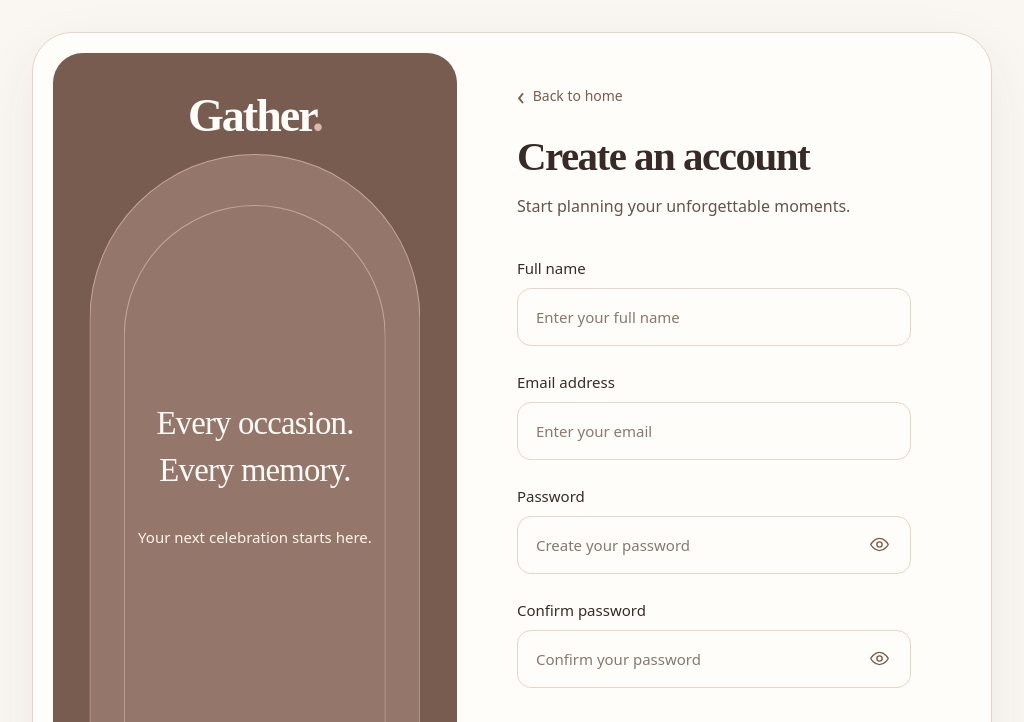
Test: Registration form › rejects an invalid email address
This screenshot has width=1024, height=722.
Type "Test User" into the field labelled "Full name" at (714, 317), box [517,288,911,346]
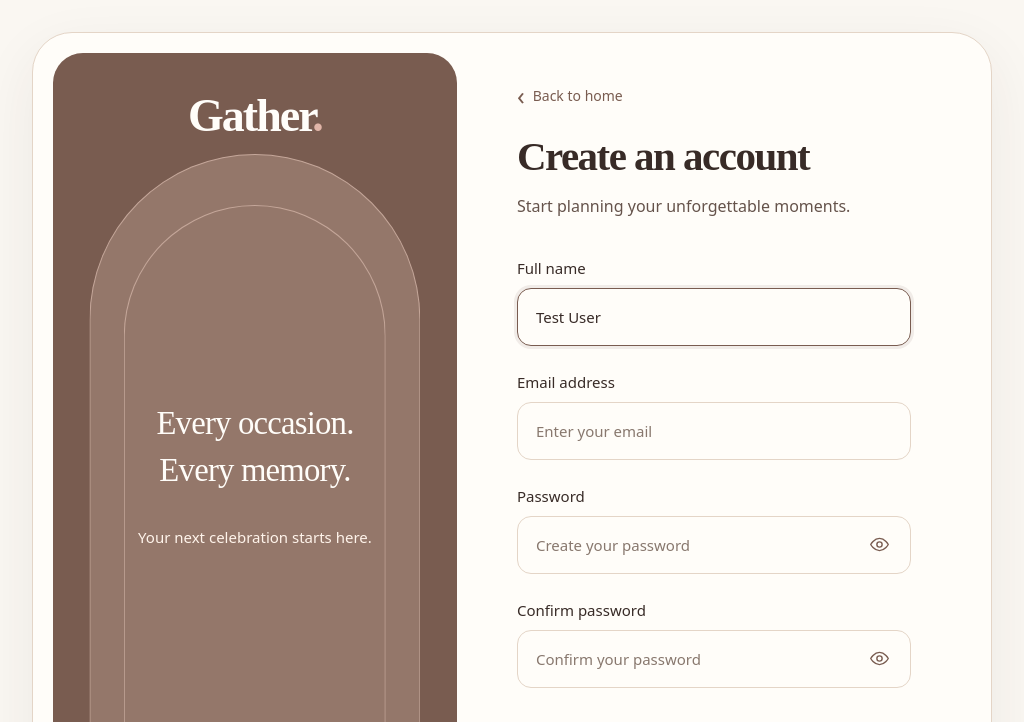
Type "invalid@example" into the field labelled "Email address" at (714, 431), box [517,402,911,460]
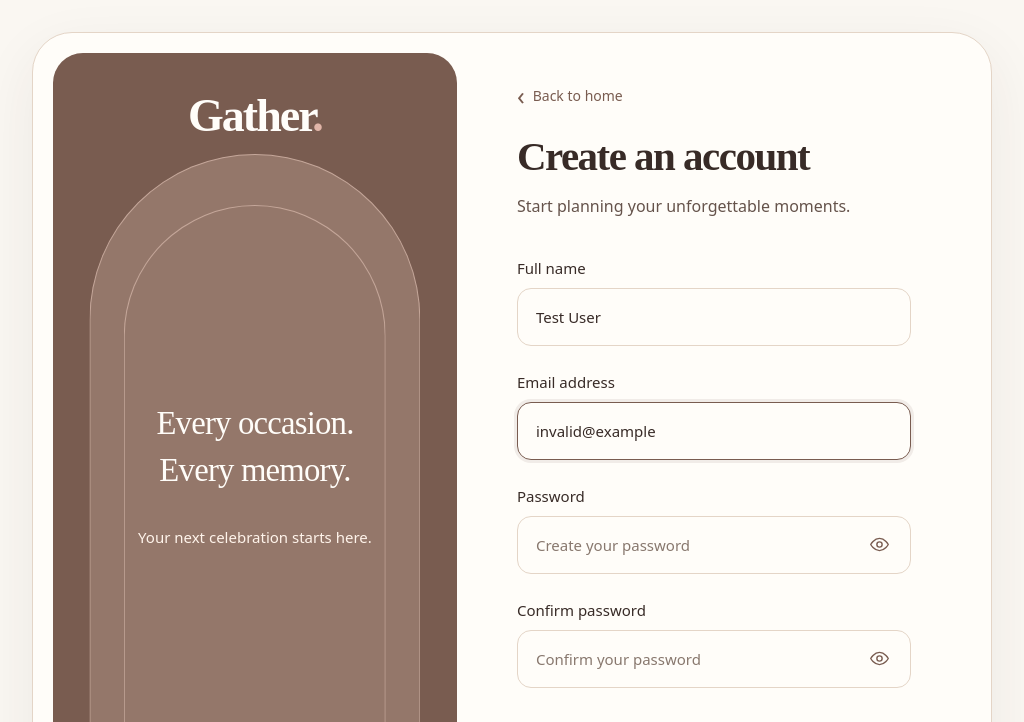
Type "Test1234" into the password field labelled "Password" at (714, 545), box [517,516,911,574]
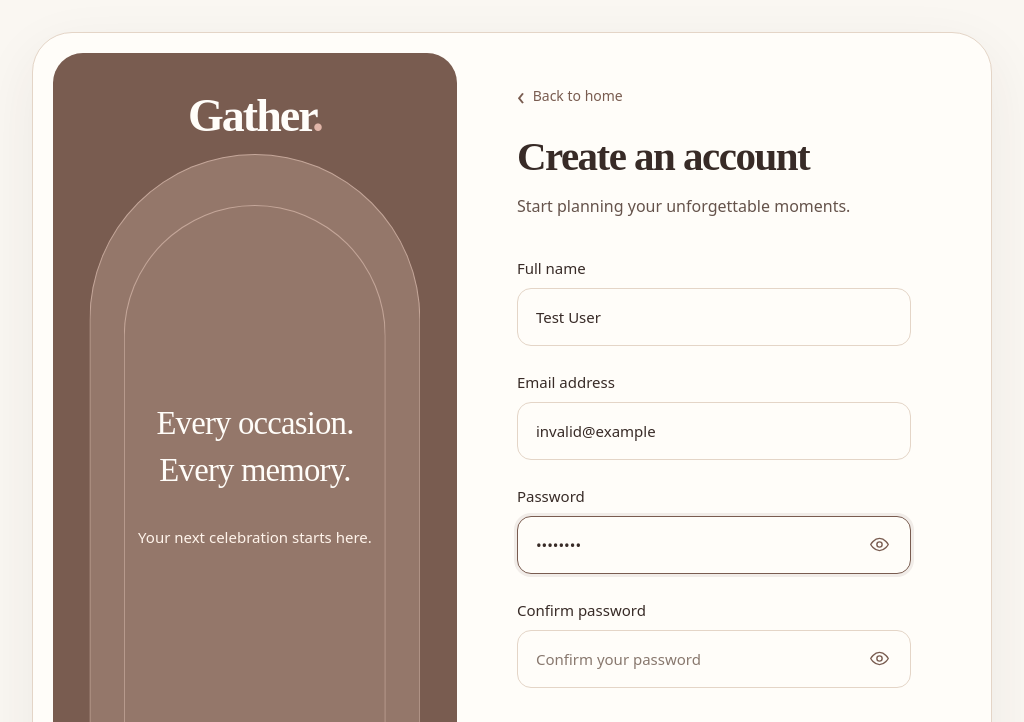
Type "Test1234" into the password field labelled "Confirm password" at (714, 659), box [517,630,911,688]
(page scrolled)
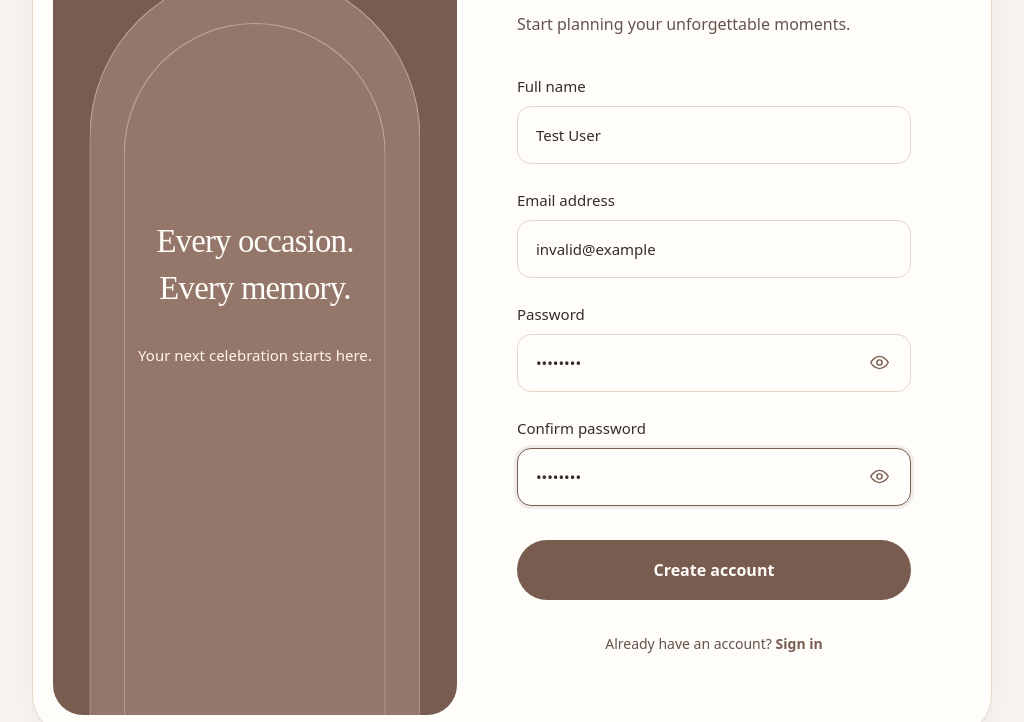
Click the button "Create account" at (714, 570), box [517,540,911,600]
(page scrolled)
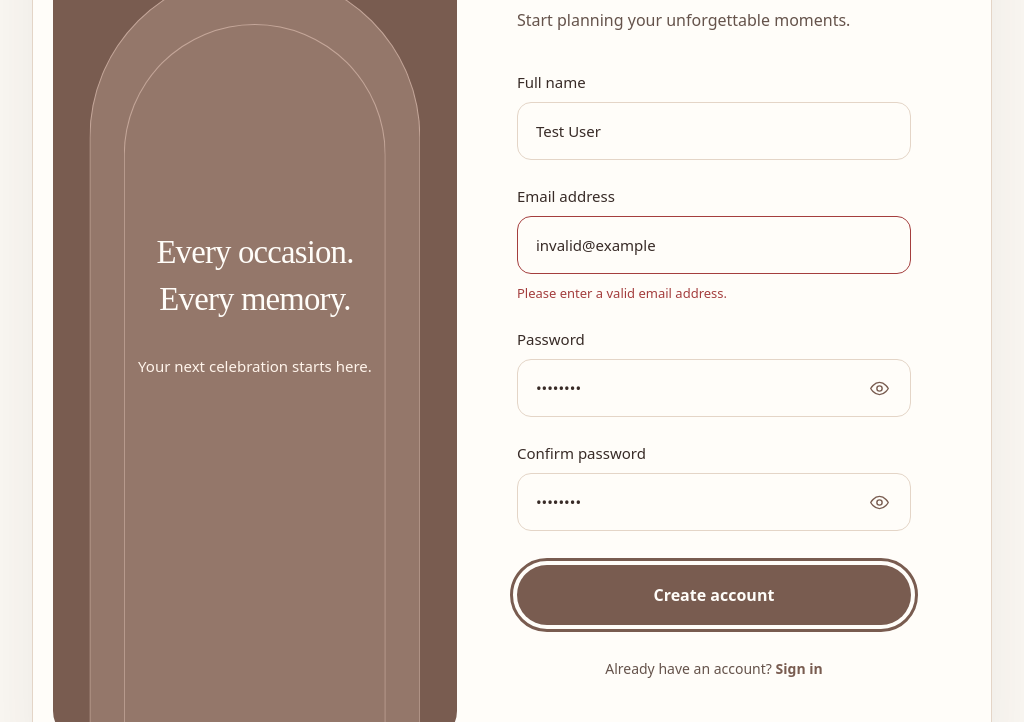
Expected: the text "Please enter a valid email address." is shown, [517,284,727,302]
